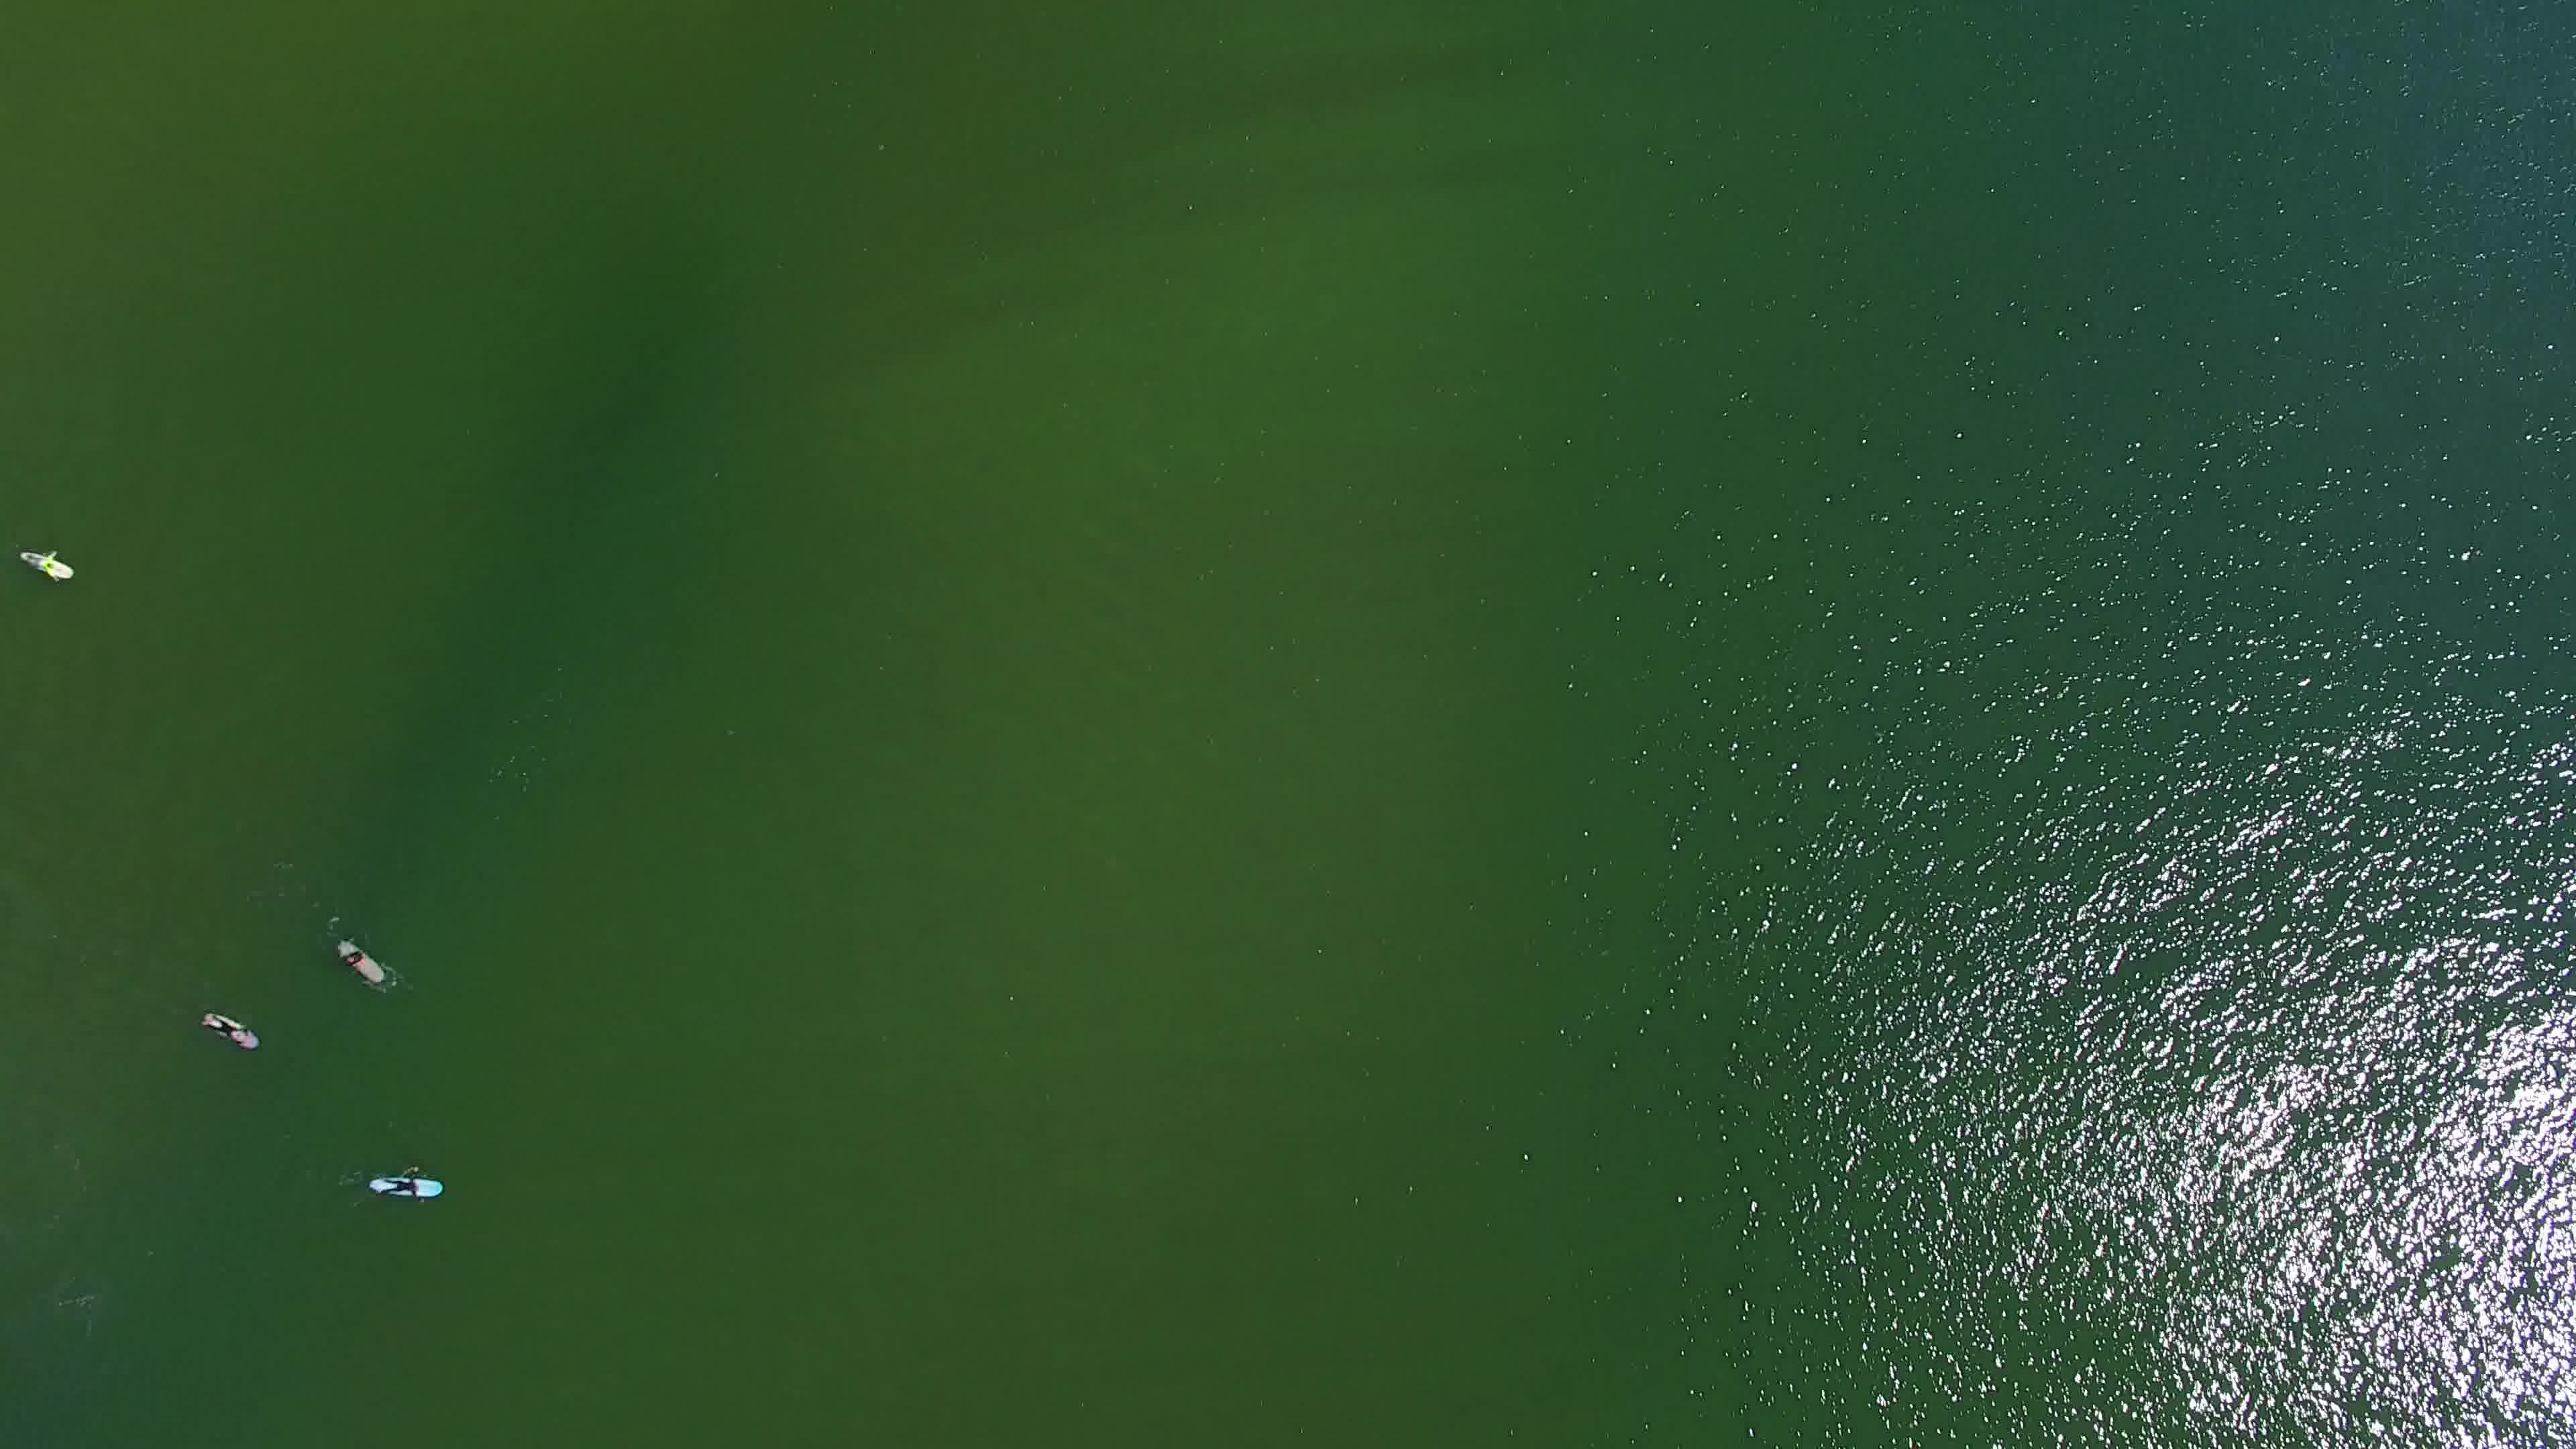surfer: (195, 1003, 267, 1056), (333, 931, 391, 993), (14, 540, 81, 586), (363, 1166, 449, 1201)
